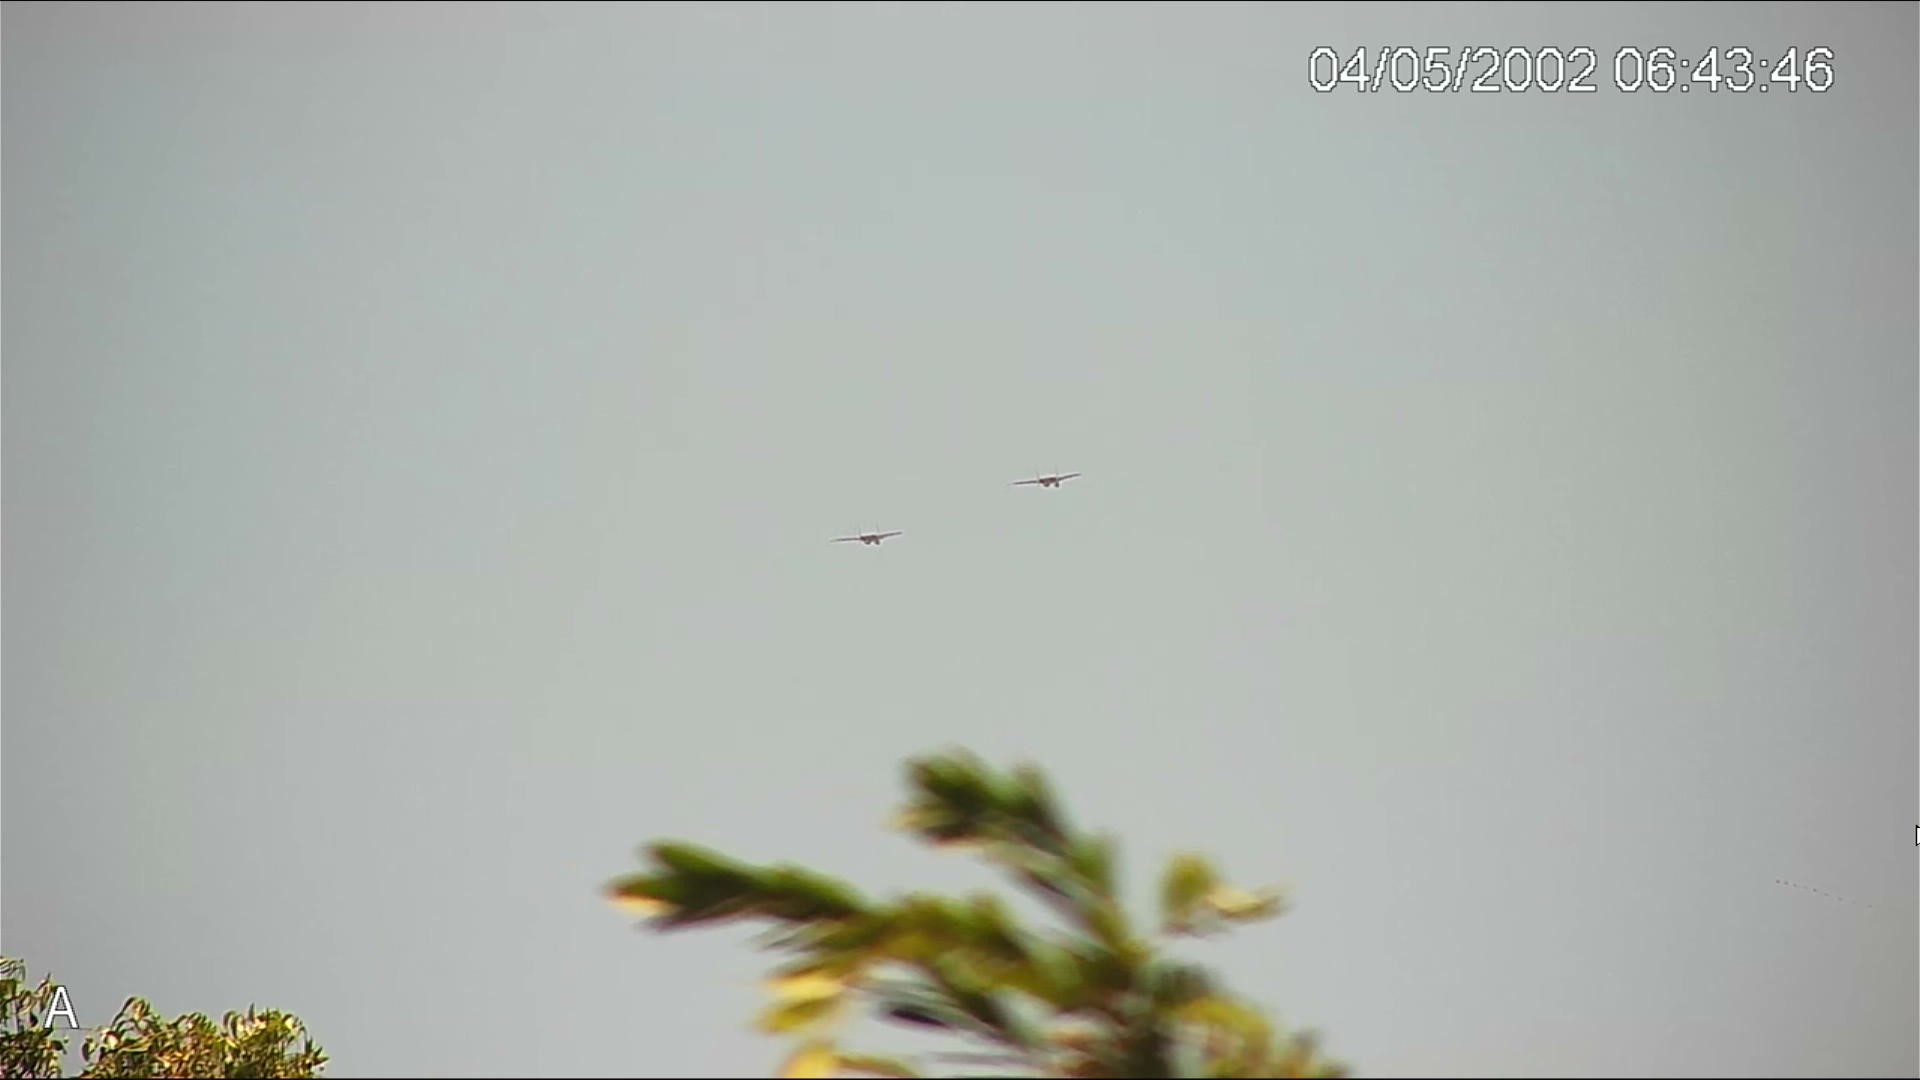SU_30: (1009, 460, 1087, 496), (831, 524, 909, 550)
